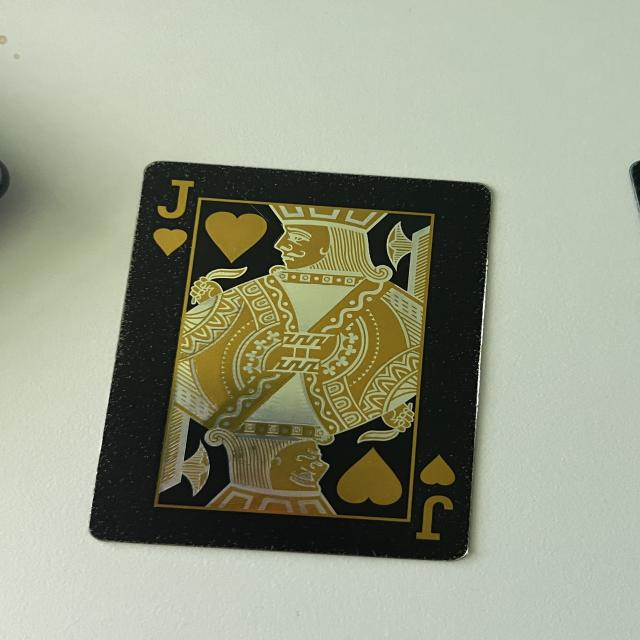JH: (146, 172, 200, 256), (417, 448, 463, 546)
